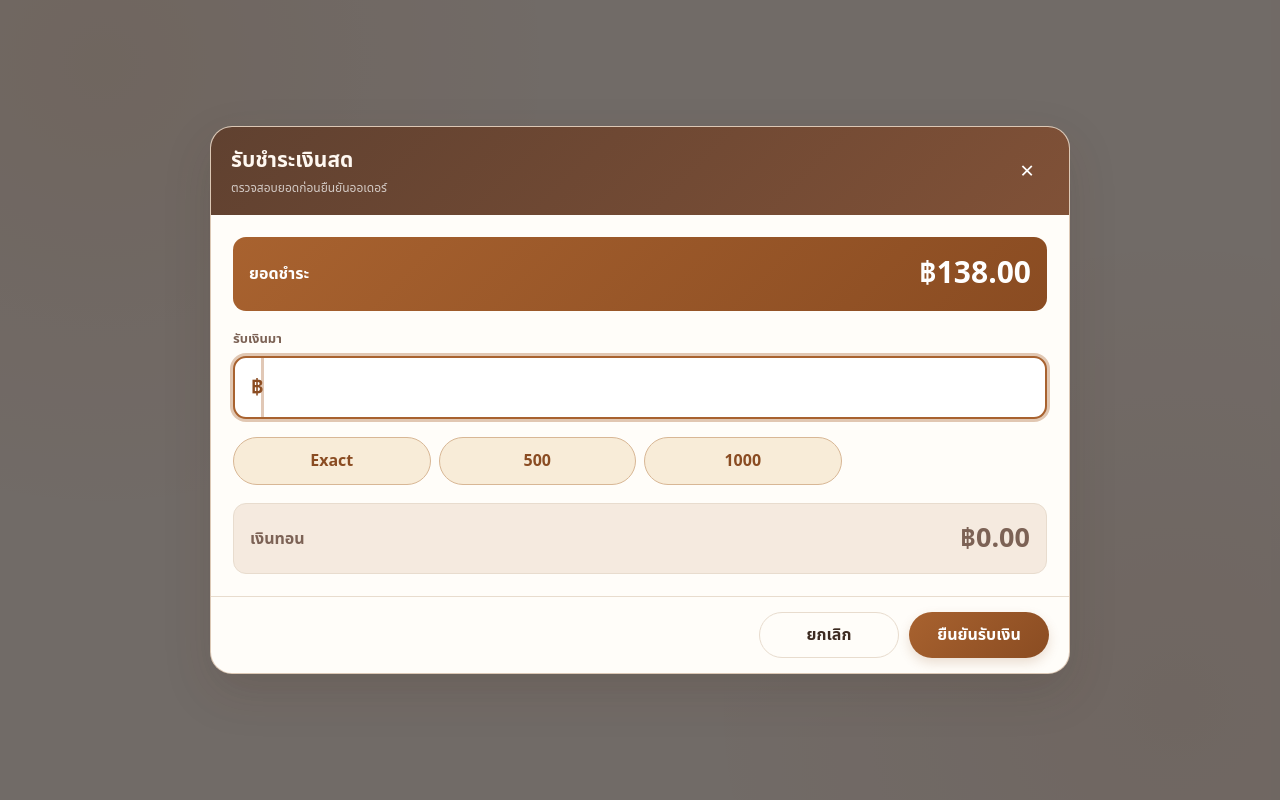
Test: CashPaymentModal › calculates change and blocks confirmation below the grand total
Expected: the text "฿138.00" is shown, [919, 251, 1031, 297]
Expected: the button "ยืนยันรับเงิน" is enabled, [909, 612, 1049, 658]
In the field named "จำนวนเงินที่รับ": (654, 388) [264, 358, 1045, 417], type "100"
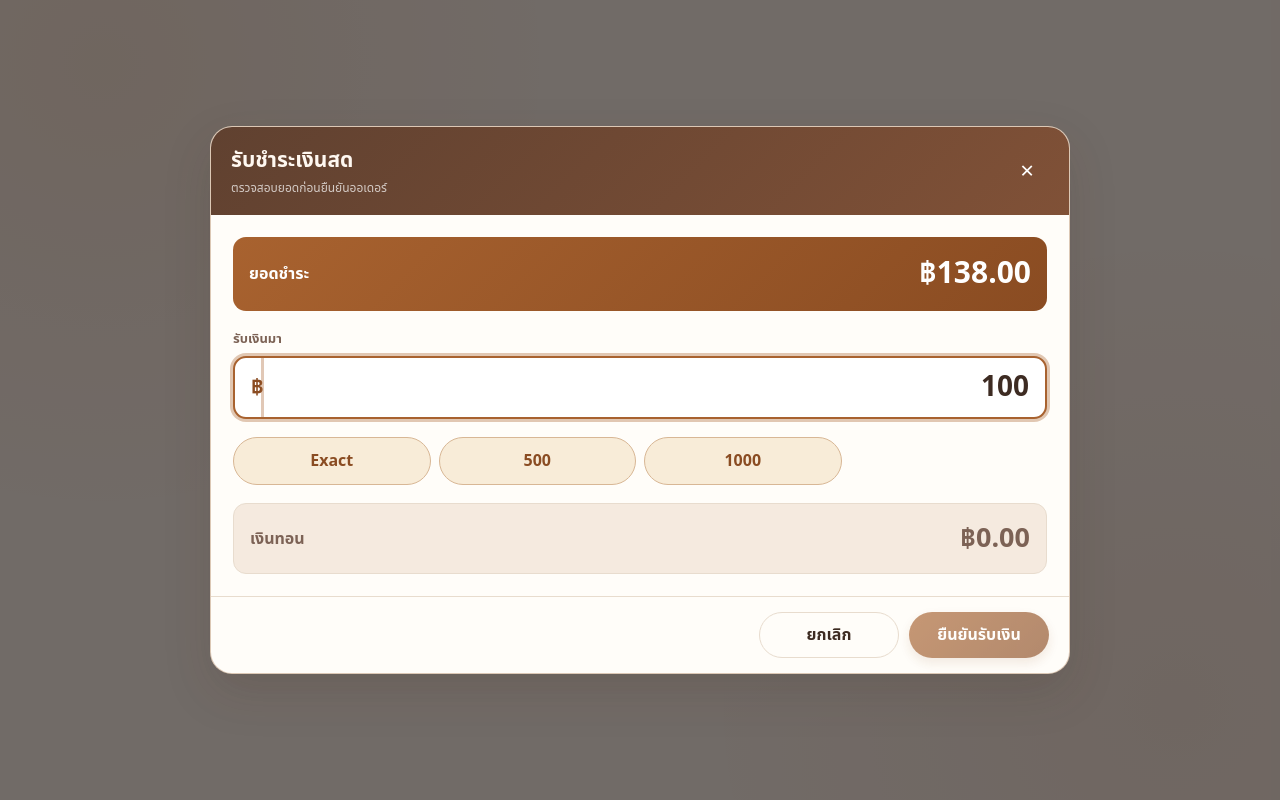
Expected: the text "฿0.00" is shown, [960, 518, 1030, 559]
Now the button "ยืนยันรับเงิน" is disabled, box [909, 612, 1049, 658]
Replace the text in the field named "จำนวนเงินที่รับ" with "200": (654, 388) [264, 358, 1045, 417]
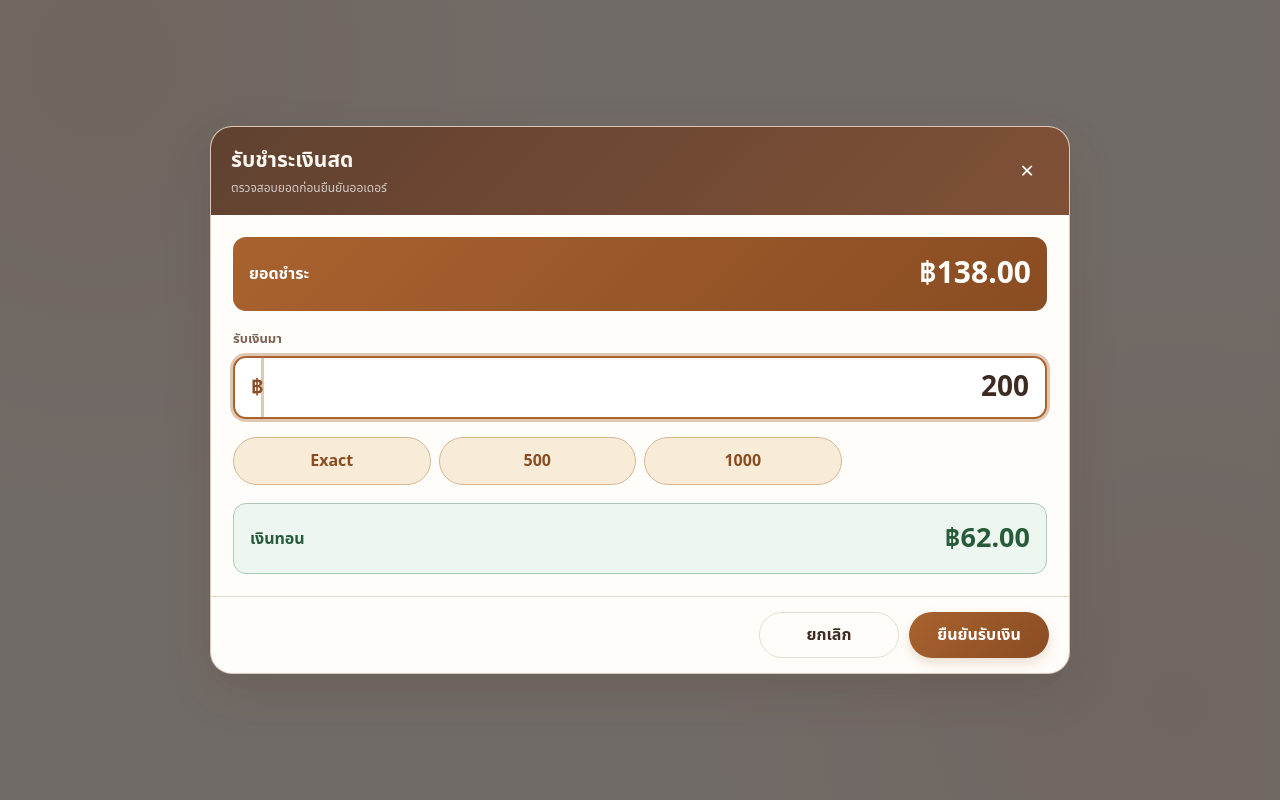
Now the text "฿62.00" is shown, box [945, 518, 1030, 559]
Now the button "ยืนยันรับเงิน" is enabled, box [909, 612, 1049, 658]
